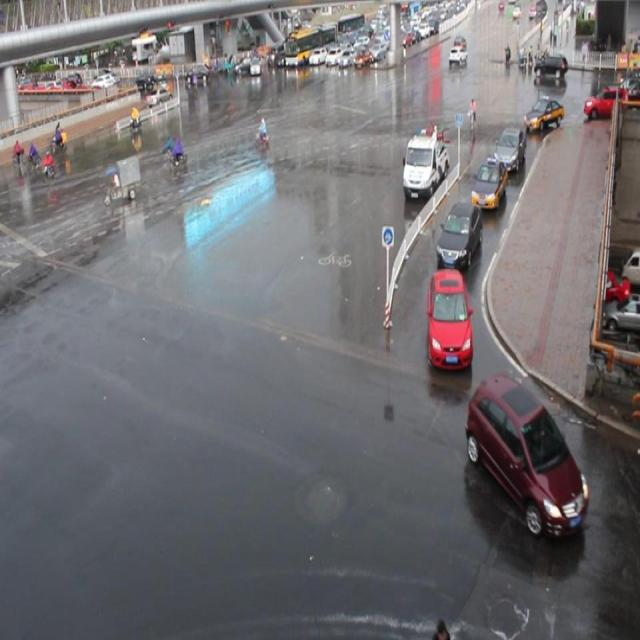bus: (402, 128, 450, 200)
car: (466, 374, 586, 535), (426, 268, 470, 370), (436, 199, 480, 267), (469, 157, 506, 210), (492, 126, 524, 174), (522, 97, 562, 134)
